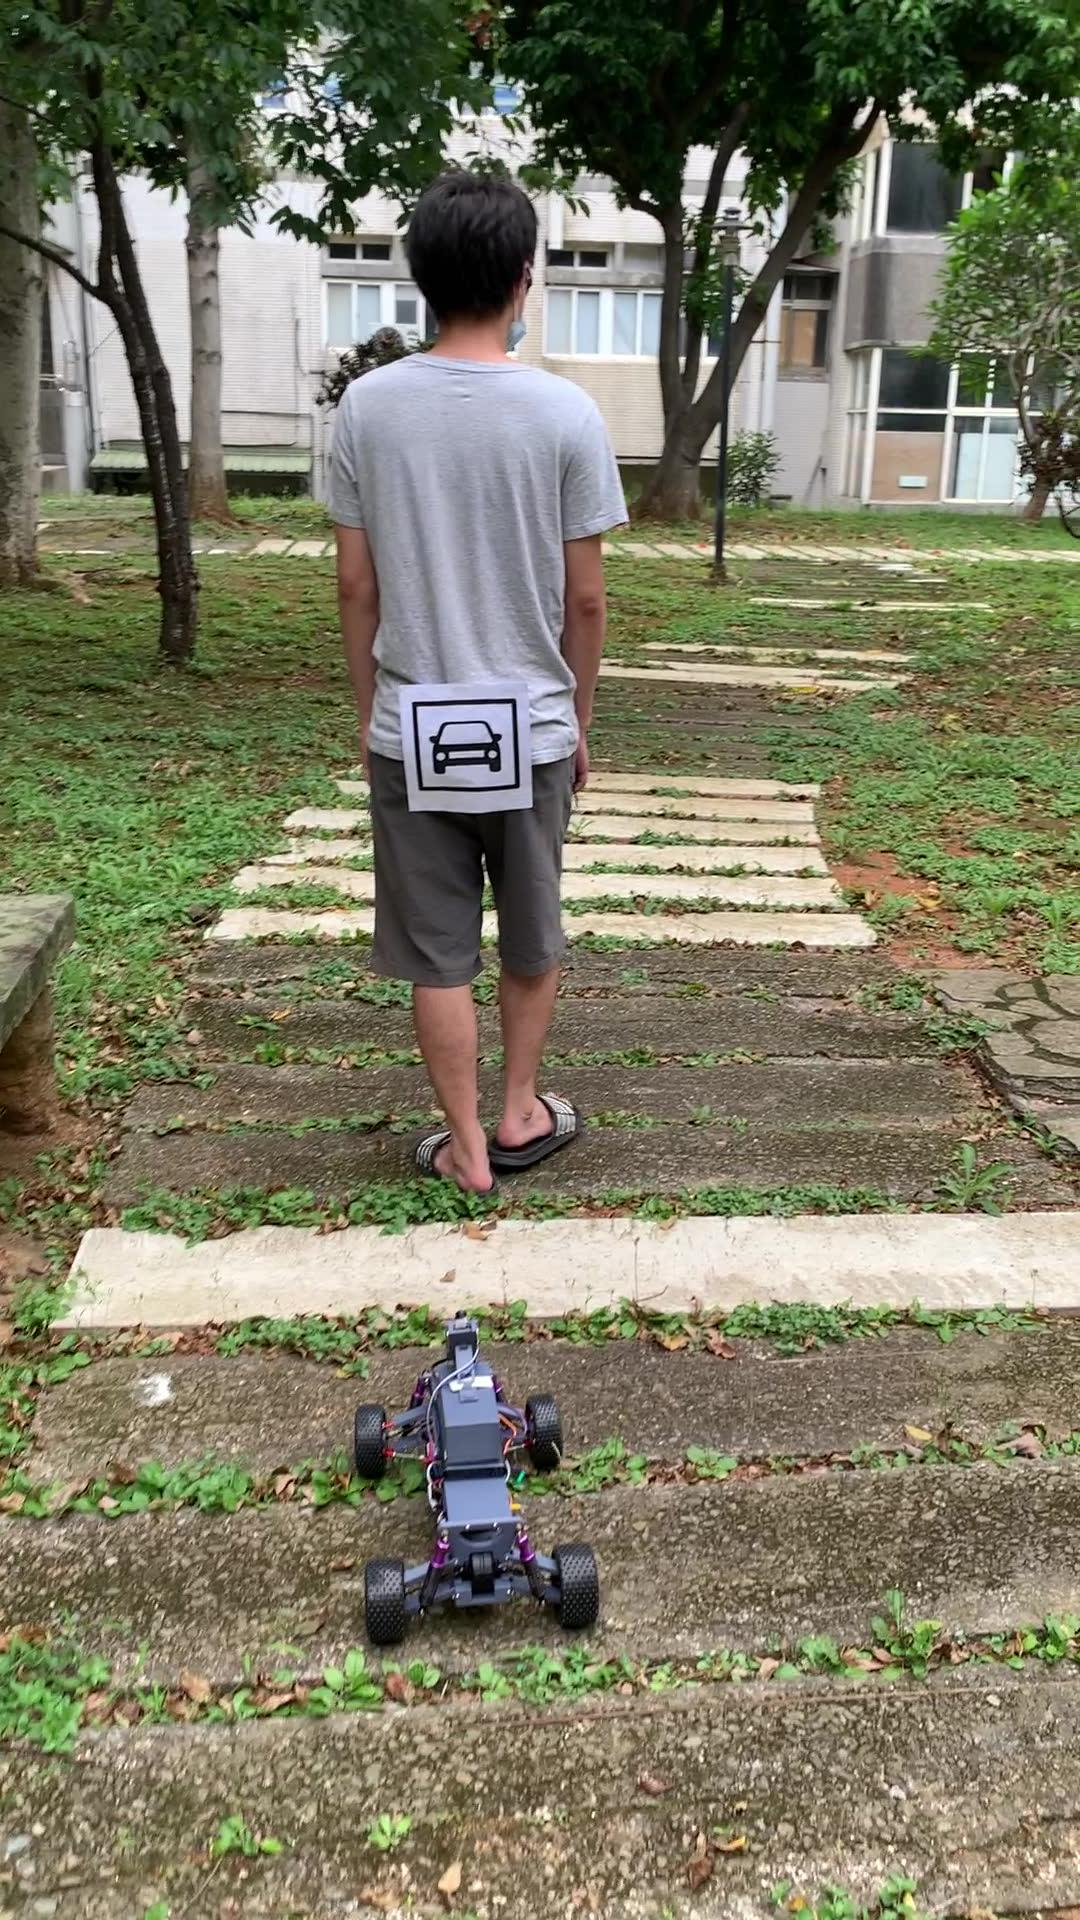car_img: (413, 698, 521, 793)
